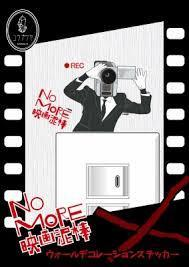no more kid: (94, 59, 137, 97)
